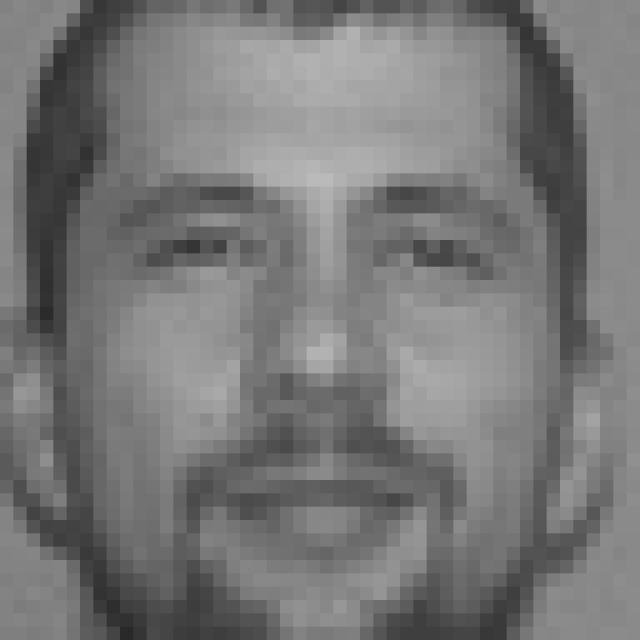neutral: (105, 162, 542, 570)
